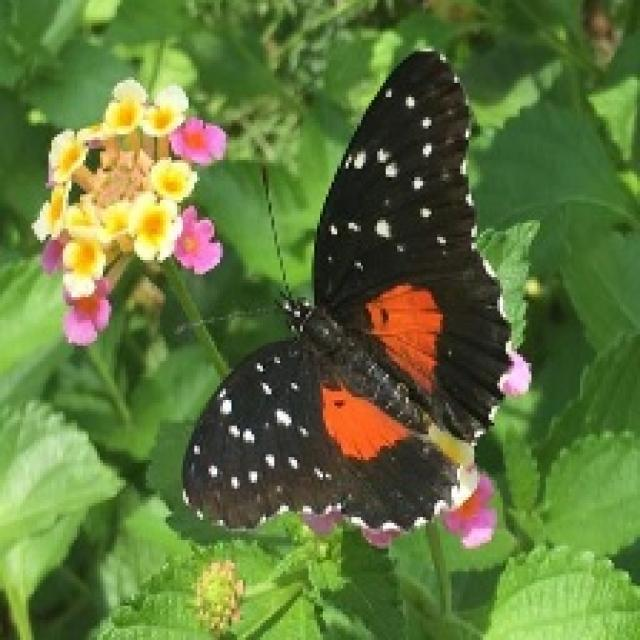butterfly: (174, 46, 512, 548)
